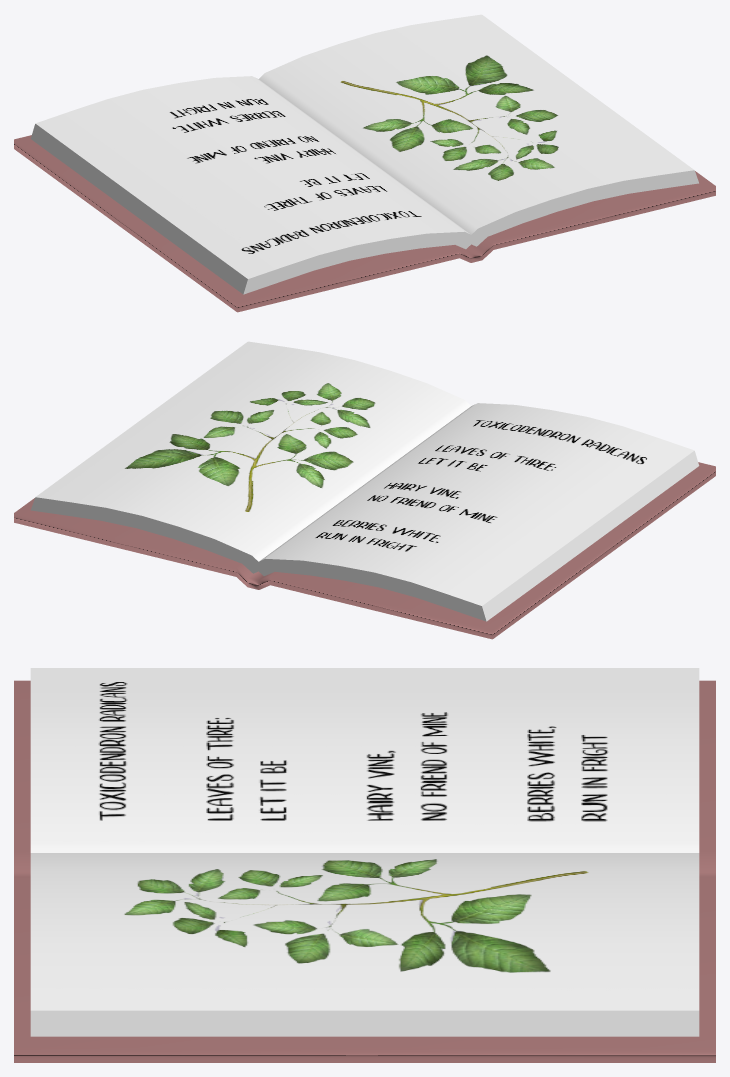
Rendered from notebook_01.fbx.
The picture shows the model from 3 angles, top to bottom: view 1: azimuth 30°, elevation 25°; view 2: azimuth 150°, elevation 25°; view 3: azimuth 270°, elevation 25°; orthographic projection. The views are drawn at different scales.
Parts seen in each view (by area): view 1: notebook; view 2: notebook; view 3: notebook.
Part boxes in pixels (left/top/right/bottom): notebook: left=14, top=14, right=715, bottom=312; notebook: left=14, top=341, right=715, bottom=639; notebook: left=14, top=668, right=715, bottom=1062.
Bounding box in the file's own units: 91.15 × 7.38 × 73.66.
